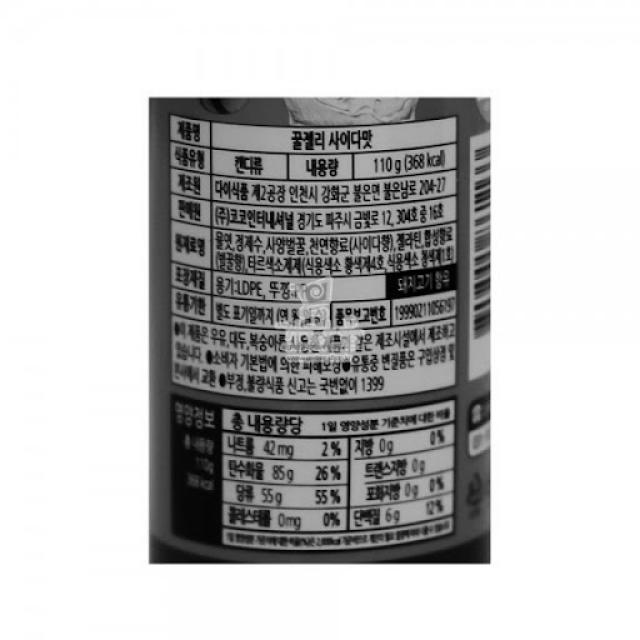Nutrition Label: (161, 395, 459, 549)
